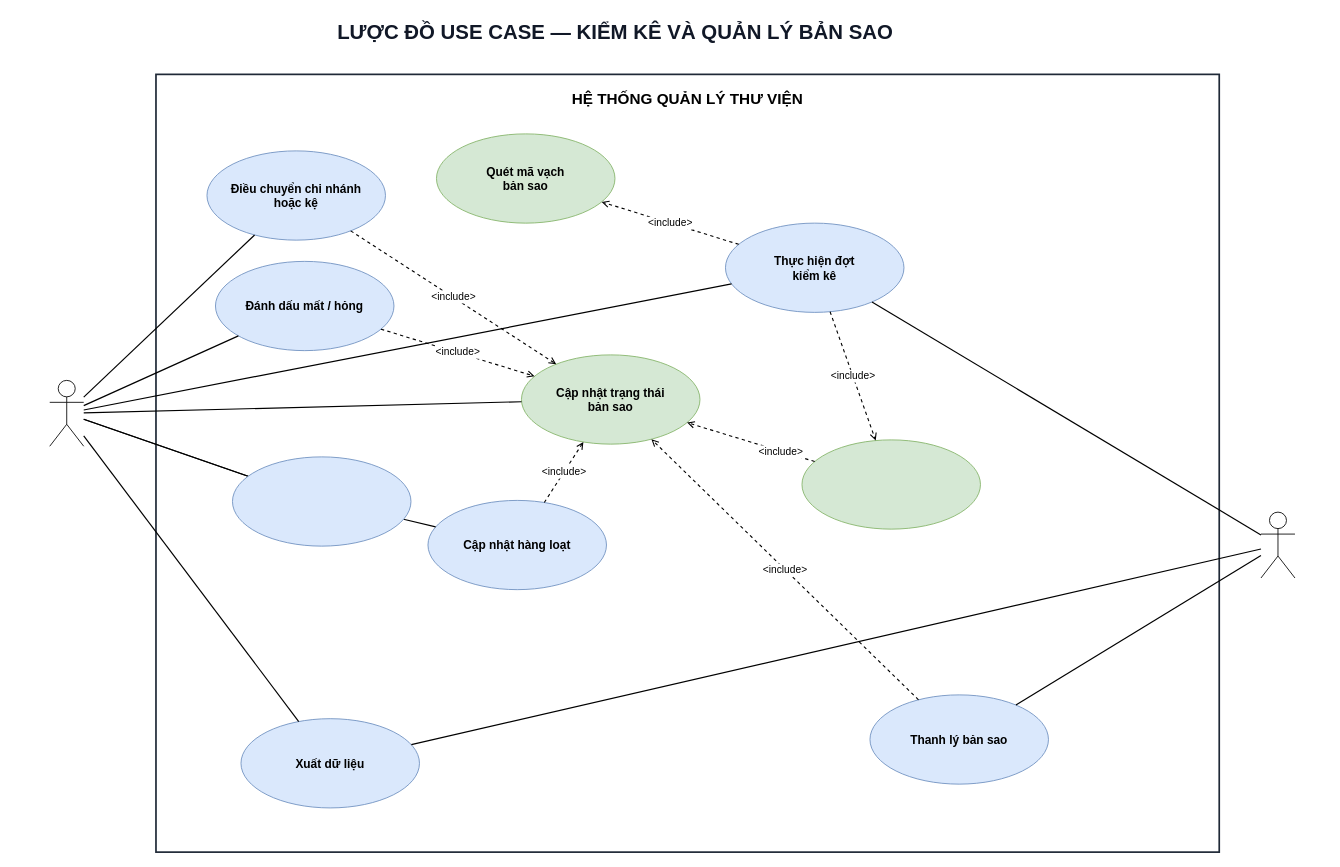
Some shapes in this 1340 by 867 pixel diagram are drawn without their labels. The shapes that lost their labels are listed below. From the top down, each one's box as (x1, y1, x2, y2) in pixels, then its label:
(49, 380, 84, 446): Nhân viên kiểm kê
(232, 456, 411, 546): Nhập dữ liệu
(801, 439, 980, 529): Đối soát chênh lệch
(1260, 511, 1295, 578): Quản lý thư viện
